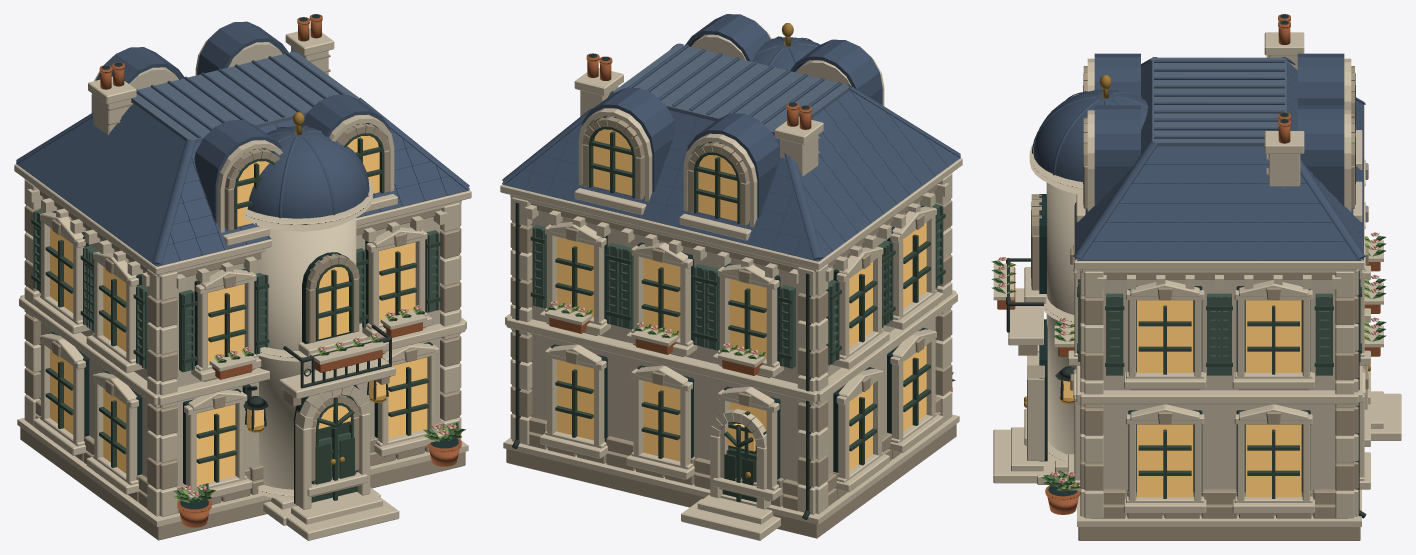
The picture shows the model from 3 angles, left to right: view 1: azimuth 30°, elevation 25°; view 2: azimuth 150°, elevation 25°; view 3: azimuth 270°, elevation 25°; orthographic projection. The views are drawn at different scales.
Parts seen in each view (by area): view 1: classic_tower_2_geometry, classic_tower_2_geometry ceramic; view 2: classic_tower_2_geometry, classic_tower_2_geometry ceramic; view 3: classic_tower_2_geometry, classic_tower_2_geometry ceramic.
Boxes of the visible parts, box(x1,y1,x2,y2) form: classic_tower_2_geometry: box(14, 14, 471, 540); classic_tower_2_geometry ceramic: box(16, 21, 469, 266); classic_tower_2_geometry: box(500, 23, 962, 540); classic_tower_2_geometry ceramic: box(502, 14, 960, 261); classic_tower_2_geometry: box(991, 14, 1401, 540); classic_tower_2_geometry ceramic: box(1032, 53, 1365, 260).
Size of the model in its own units: 0.9288 by 1.05 by 0.99.
